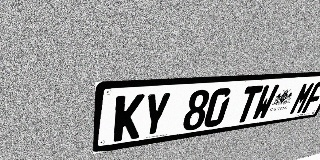0: (202, 88, 233, 128)
8: (181, 89, 213, 132)
F: (301, 81, 320, 113)
K: (113, 94, 145, 142)
M: (288, 82, 317, 115)
T: (233, 85, 264, 124)
W: (250, 84, 280, 121)
Y: (140, 92, 172, 138)
